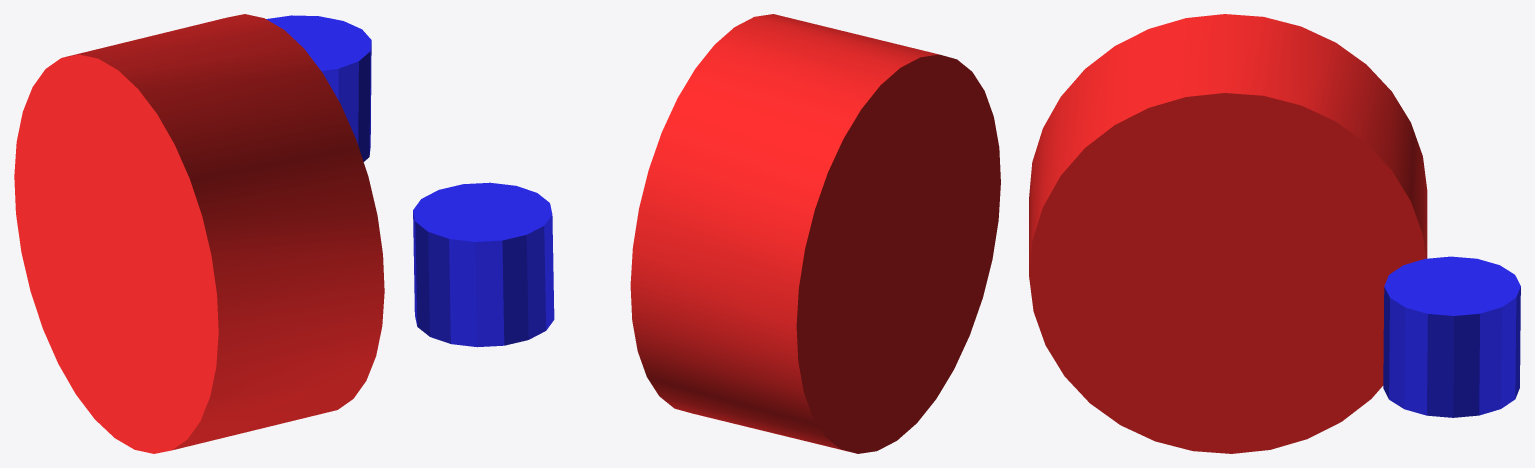
3 views of the same model, side by side, from view 1: azimuth 30°, elevation 25°; view 2: azimuth 150°, elevation 25°; view 3: azimuth 270°, elevation 25° (orthographic). The views are drawn at different scales.
Parts seen in each view (by area): view 1: Right_BarrettHand; view 2: Right_BarrettHand; view 3: Right_BarrettHand.
Boxes of the visible parts, <box> form: Right_BarrettHand: <box>14,14,384,453</box>; Right_BarrettHand: <box>413,14,1000,453</box>; Right_BarrettHand: <box>1029,14,1520,453</box>.
Bounding box in the file's own units: 0.0904 × 0.0885 × 0.1093.
